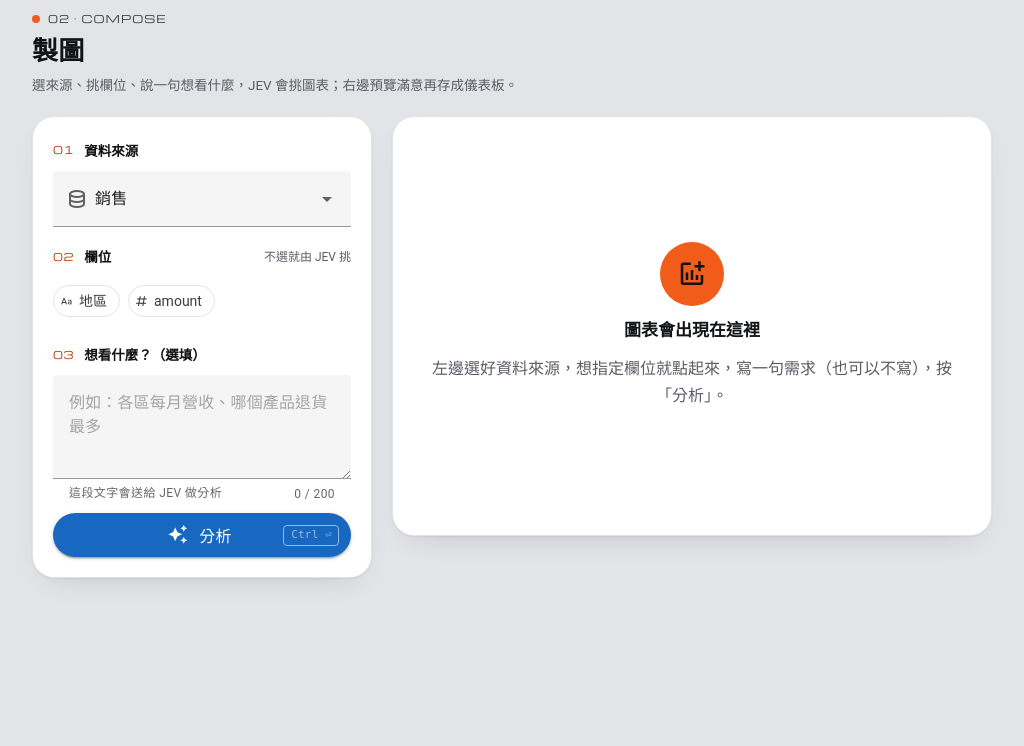
ChartBuilder › chips toggle the picked fields (aria-checked, 已選 n, 清除); 分析 and 調整 send them
Step 1. Click the checkbox labelled "地區" → (86, 301), box top-left (53, 285), bottom-right (120, 317)
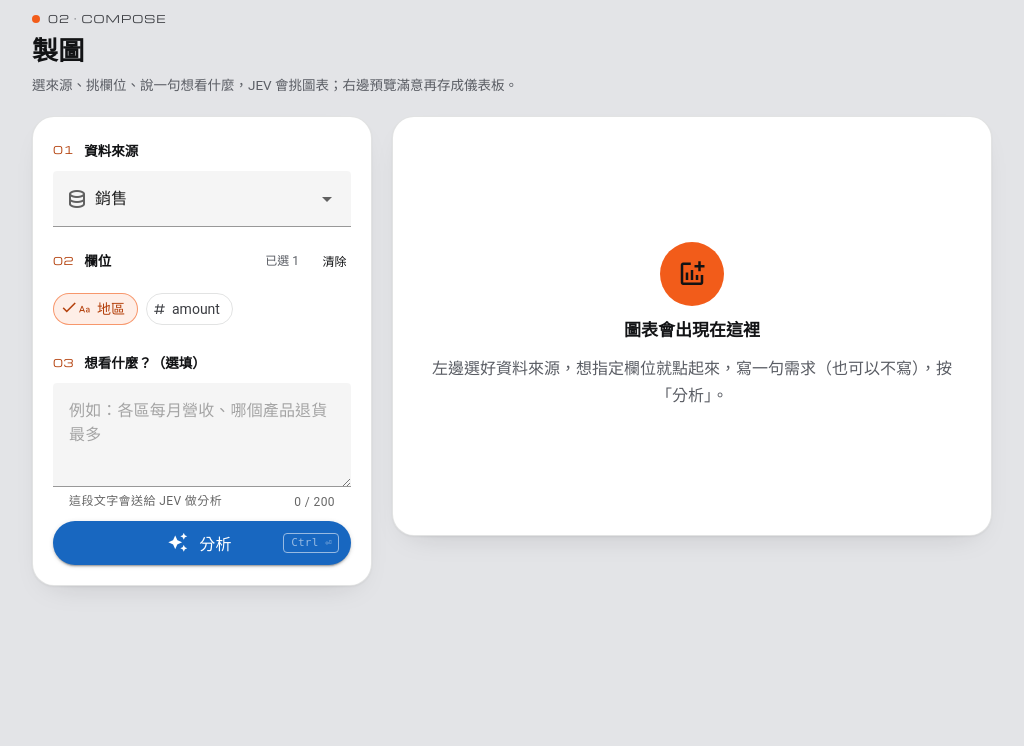
Expected: the text "已選 1" is shown, top-left (265, 252), bottom-right (299, 270)
Step 2. Click the checkbox labelled "amount" → (189, 309), box top-left (146, 293), bottom-right (233, 325)
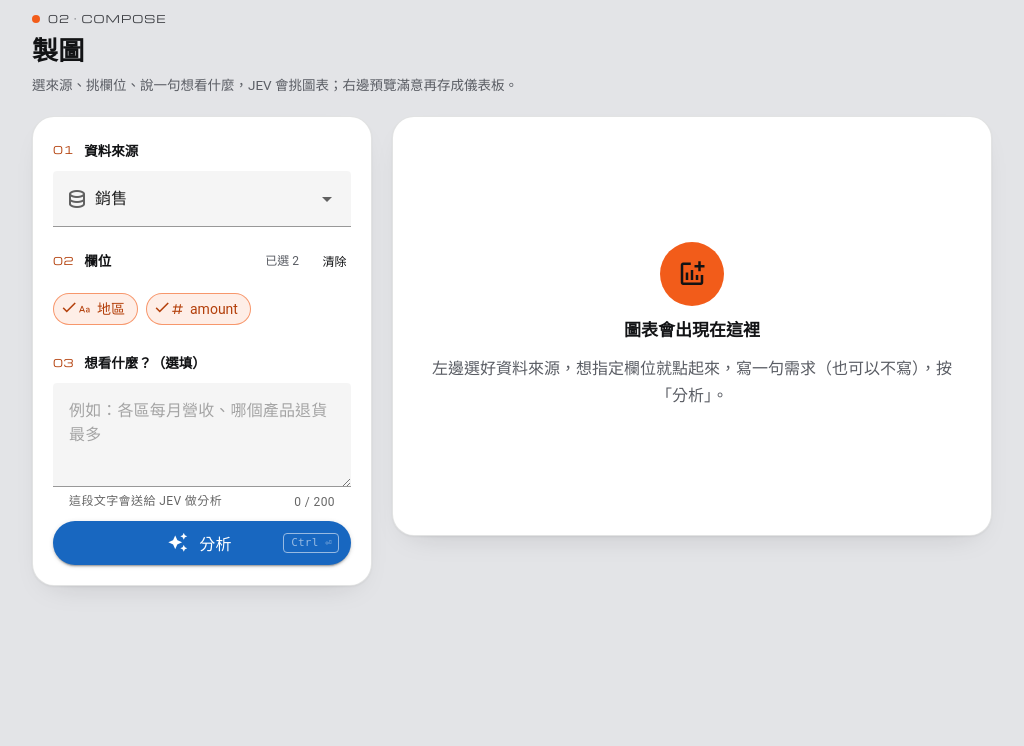
Expected: the text "已選 2" is shown, top-left (265, 252), bottom-right (299, 270)
Step 3. Click the checkbox labelled "amount" → (198, 309), box top-left (146, 293), bottom-right (251, 325)
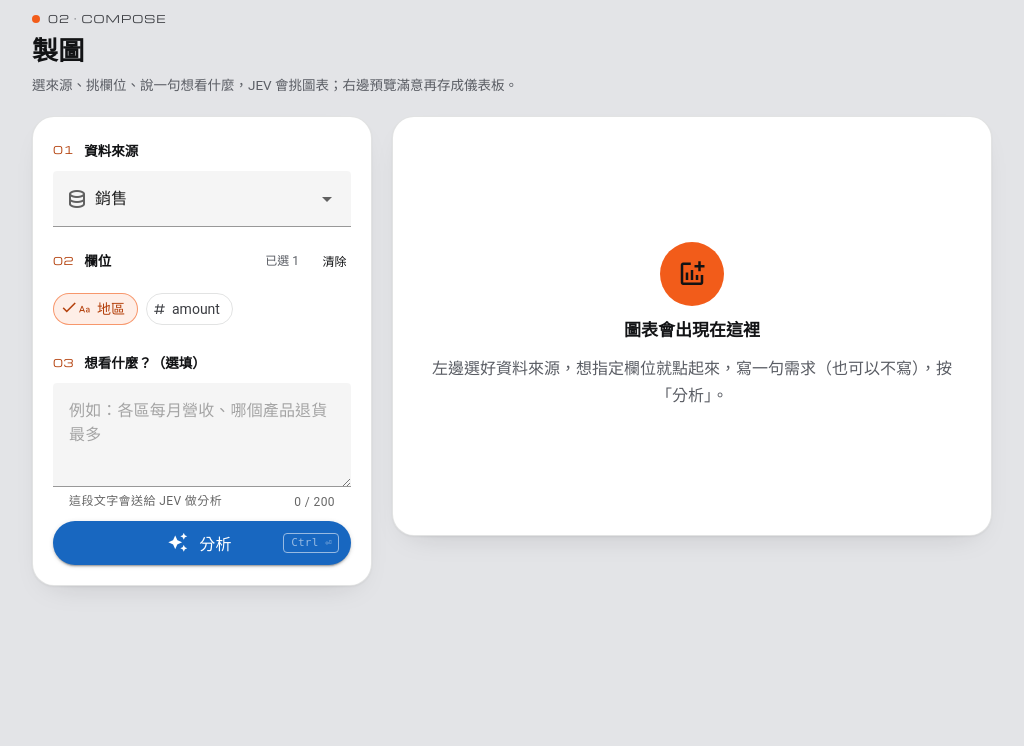
Step 4. Click the button "分析 Ctrl ⏎" → (202, 543), box top-left (53, 521), bottom-right (351, 565)
(page scrolled)
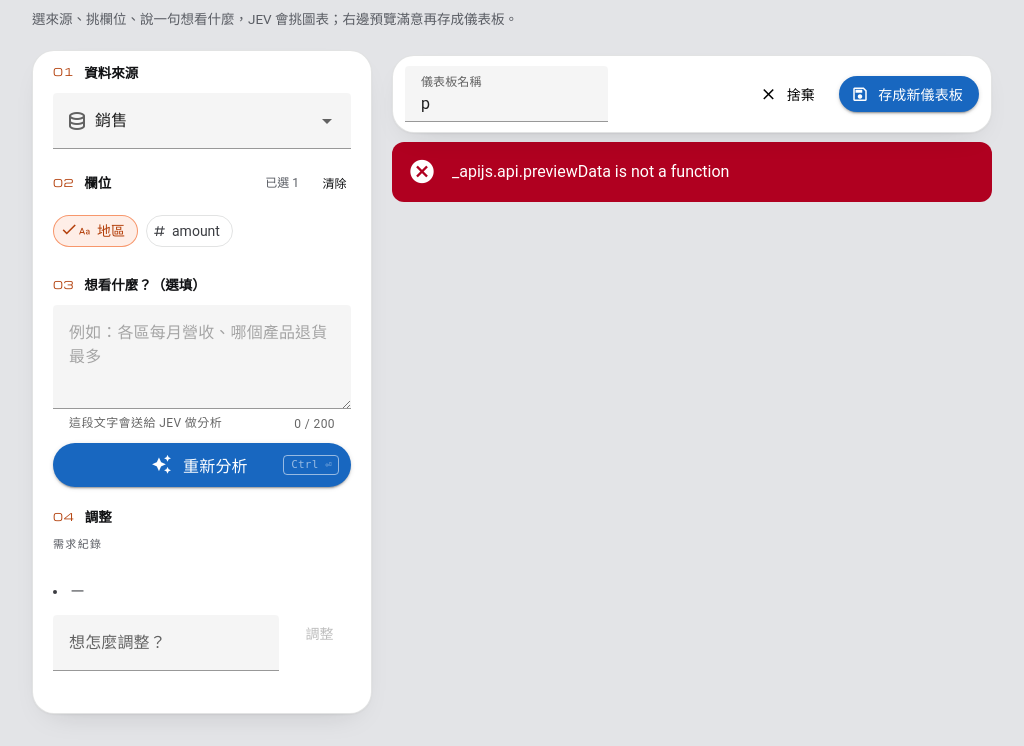
Step 5. Type "二" into the field labelled "想怎麼調整？" → (166, 643), box top-left (53, 615), bottom-right (279, 671)
Step 6. Click the button "調整" → (319, 633), box top-left (287, 615), bottom-right (351, 651)
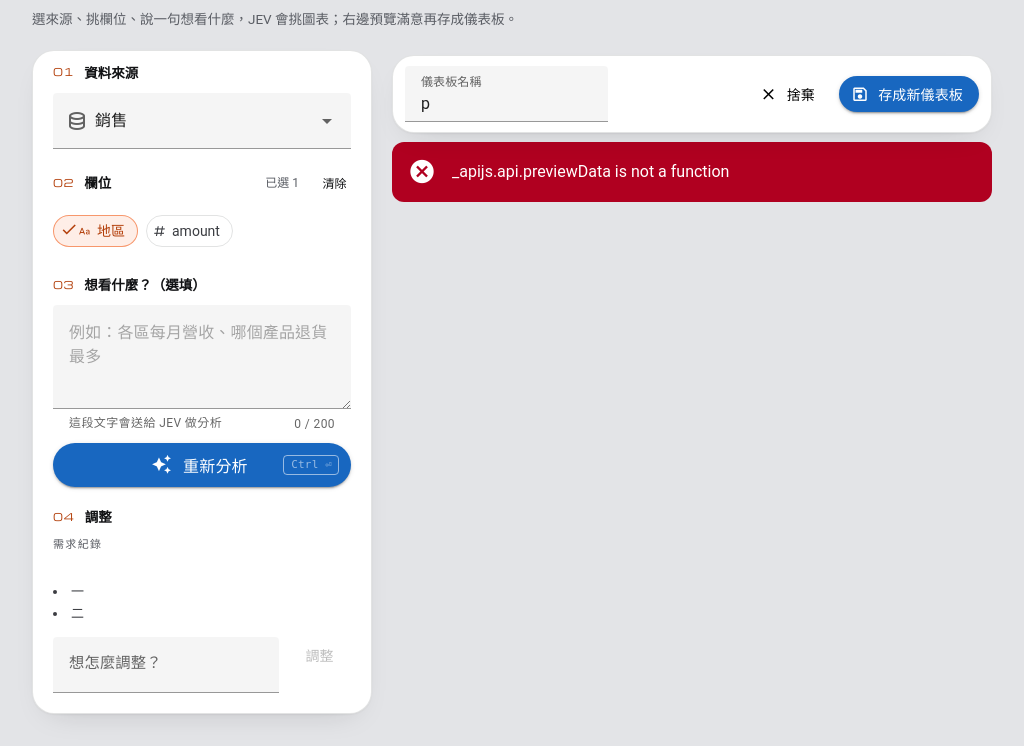
Step 7. Click the button "清除" → (334, 183), box top-left (309, 169), bottom-right (359, 197)
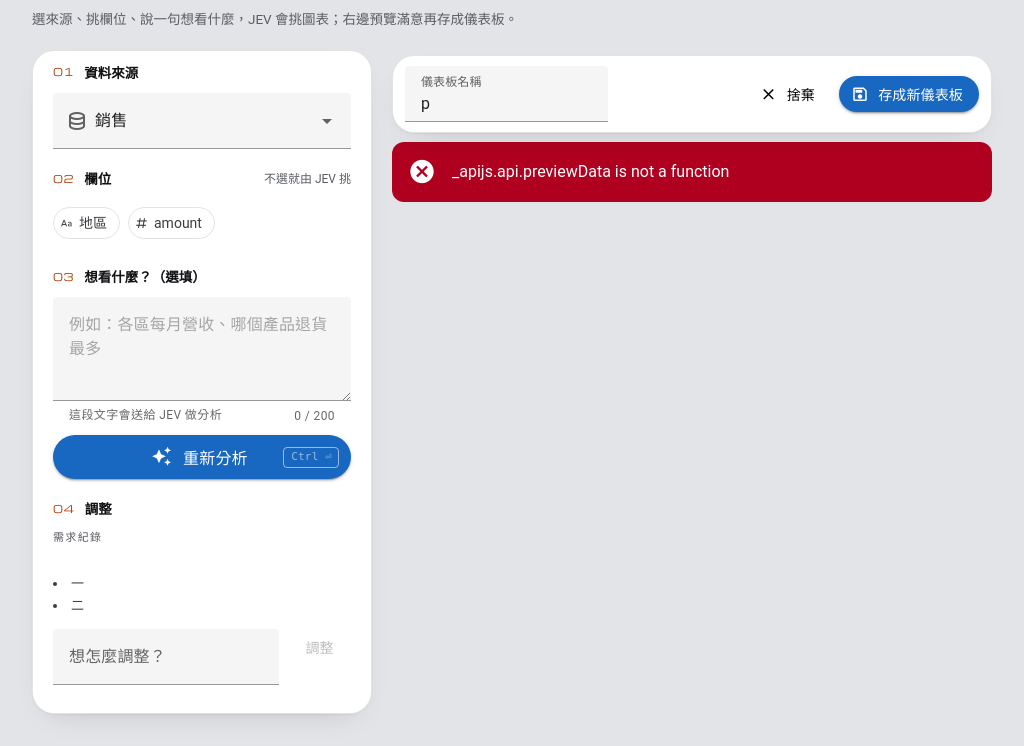
Expected: the text "已選" is gone
